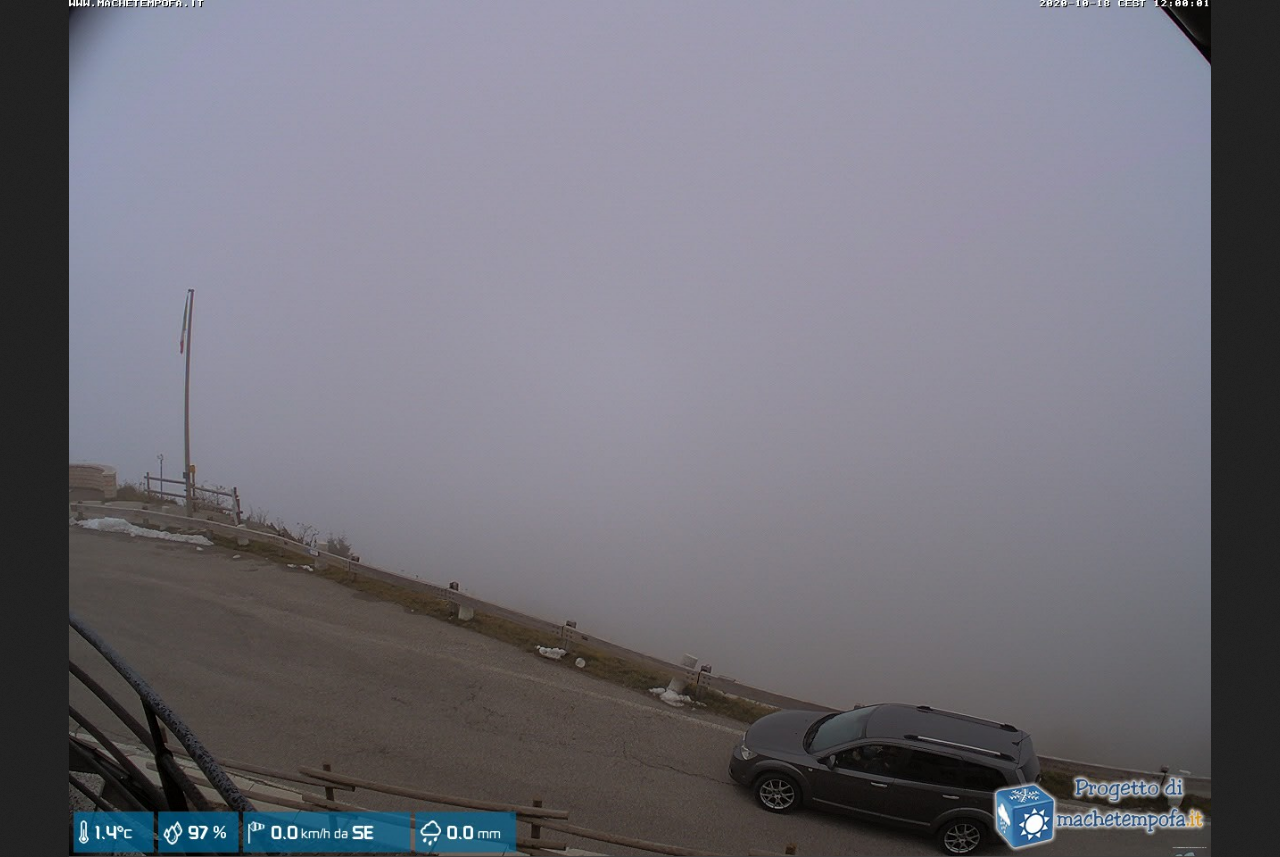no: (172, 280, 200, 364)
